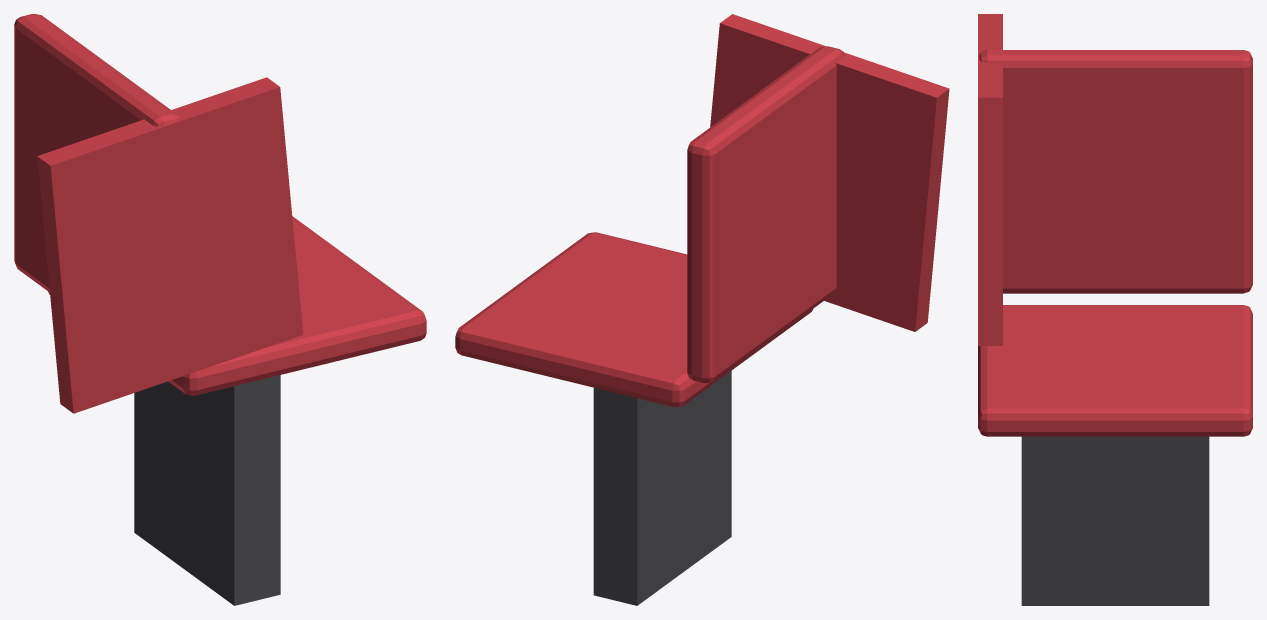
File: SM_Seat.fbx
The picture shows the model from 3 angles, left to right: view 1: azimuth 30°, elevation 25°; view 2: azimuth 150°, elevation 25°; view 3: azimuth 270°, elevation 25°; orthographic projection. The views are drawn at different scales.
Parts seen in each view (by area): view 1: SM_Seat; view 2: SM_Seat; view 3: SM_Seat.
Part boxes in pixels (x1,y1,x2,y2): SM_Seat: (14, 14, 426, 605); SM_Seat: (455, 14, 949, 605); SM_Seat: (978, 14, 1252, 605).
Bounding box in the file's own units: 0.6591 × 0.879 × 0.44.
